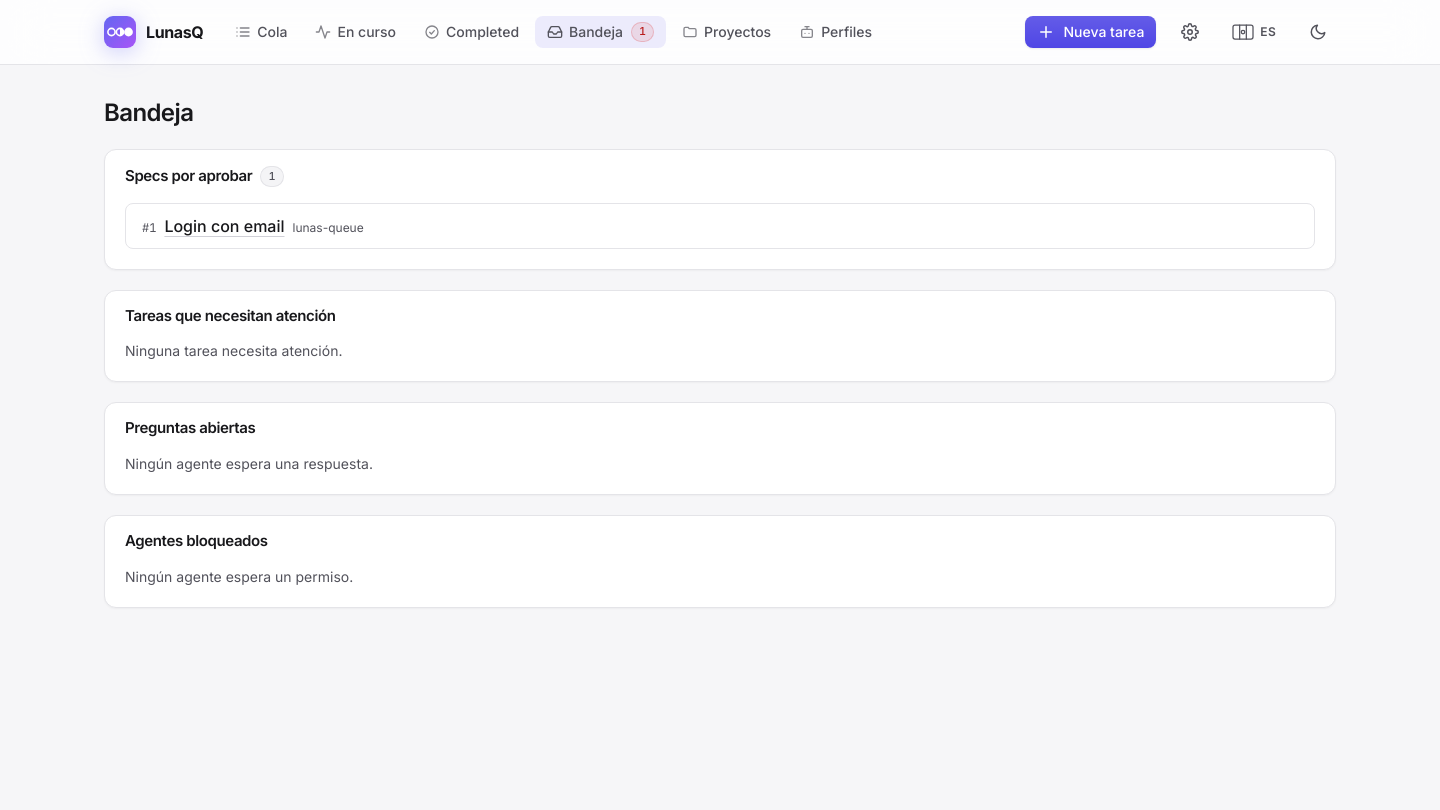
Test: inbox › the spec link leads to the task detail with its gate
Click the link "Login con email": (224, 226) [164, 214, 284, 238]
(page scrolled)
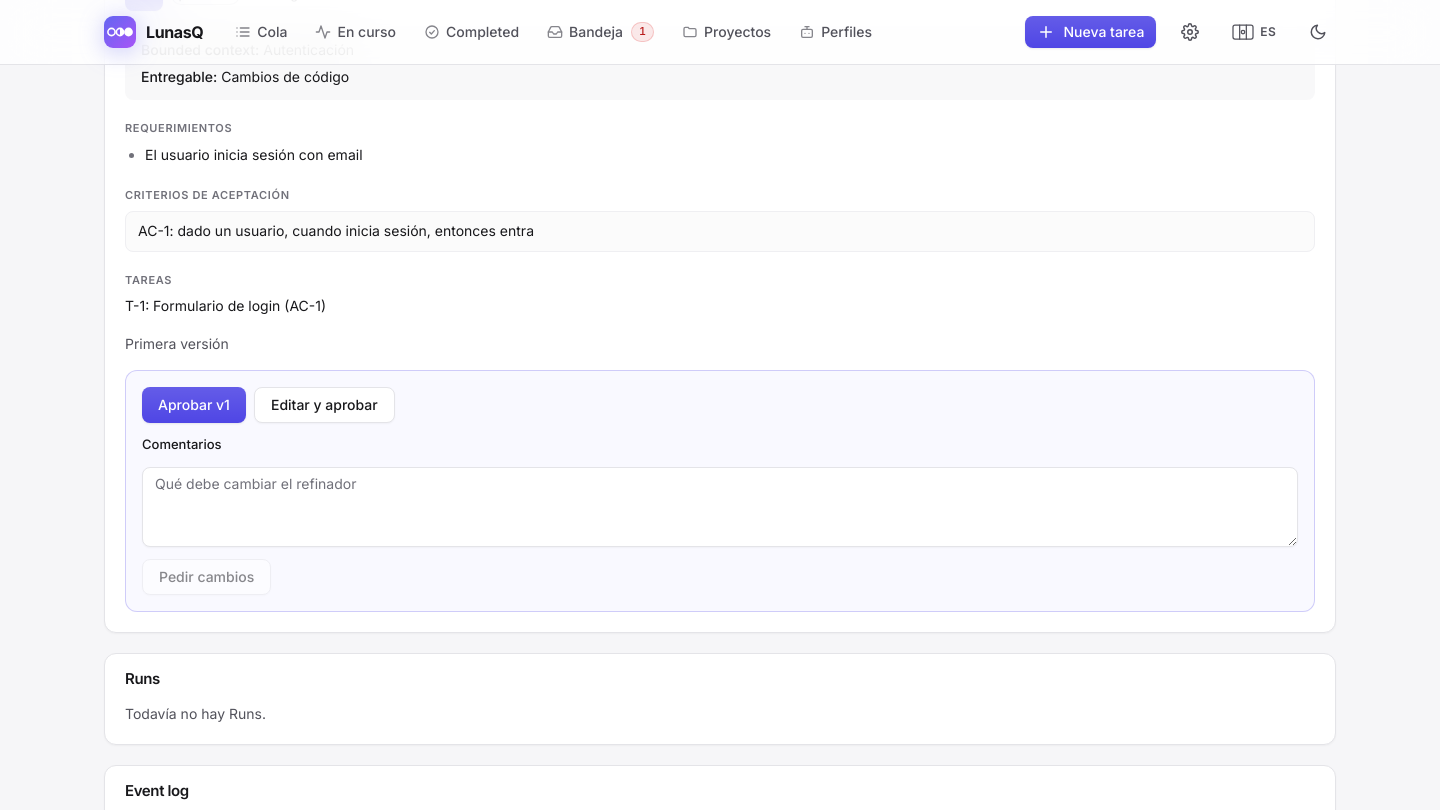
Check: the list item "AC-1: dado un usuario, cuando inicia sesión, entonces entra" is shown, box [125, 211, 1315, 252]
Check: the button "Aprobar v1" is shown, box [142, 387, 246, 423]
